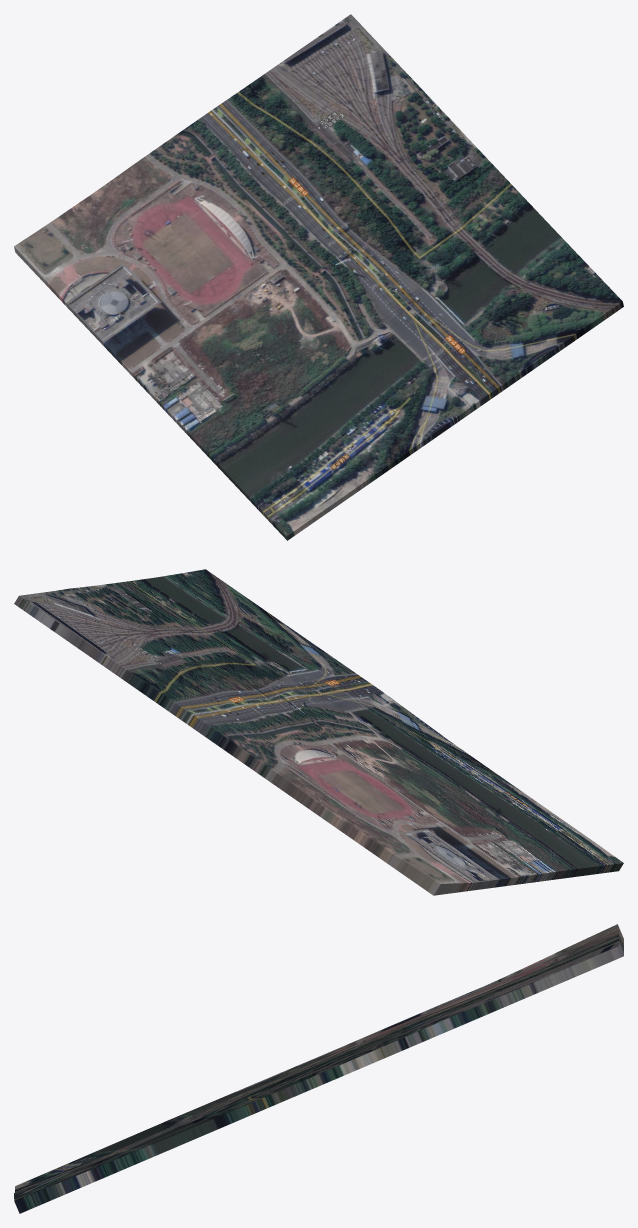
The picture shows the model from 3 angles, top to bottom: view 1: azimuth 30°, elevation 25°; view 2: azimuth 150°, elevation 25°; view 3: azimuth 270°, elevation 25°; orthographic projection. The views are drawn at different scales.
Parts seen in each view (by area): view 1: 0_15_27; view 2: 0_15_27; view 3: 0_15_27.
Part boxes in pixels (x1,y1,x2,y2): 0_15_27: (14, 14, 623, 540); 0_15_27: (14, 569, 623, 895); 0_15_27: (14, 924, 623, 1213).
Bounding box in the file's own units: 597 × 437 × 547.
1 material, 1 textured.
